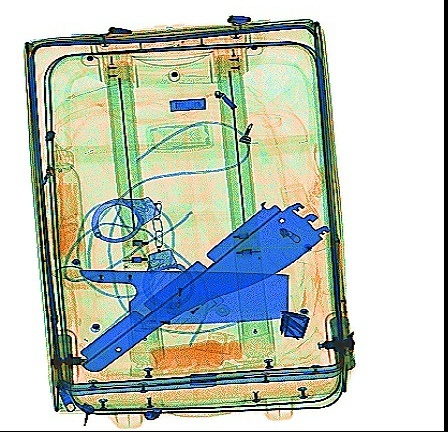handcuffs: (89, 194, 195, 310)
knife: (53, 267, 290, 325)
lighter: (166, 289, 224, 337), (131, 314, 197, 334), (168, 275, 187, 333)
pressure: (44, 147, 89, 280)
